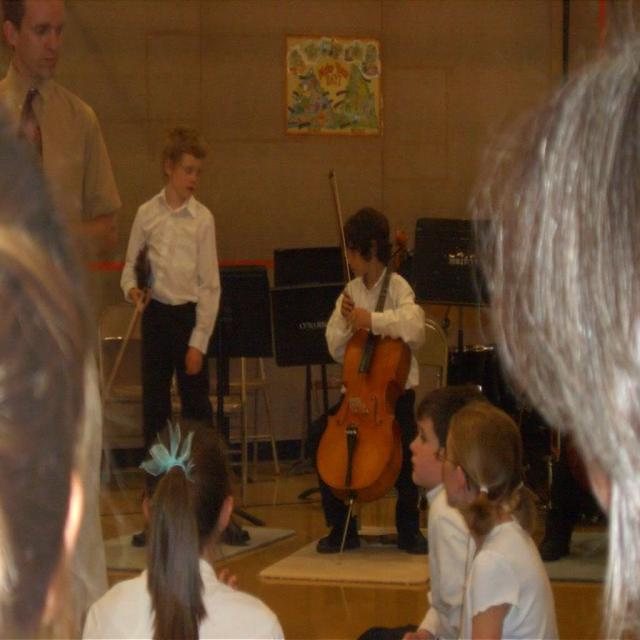cello: (315, 227, 415, 504)
